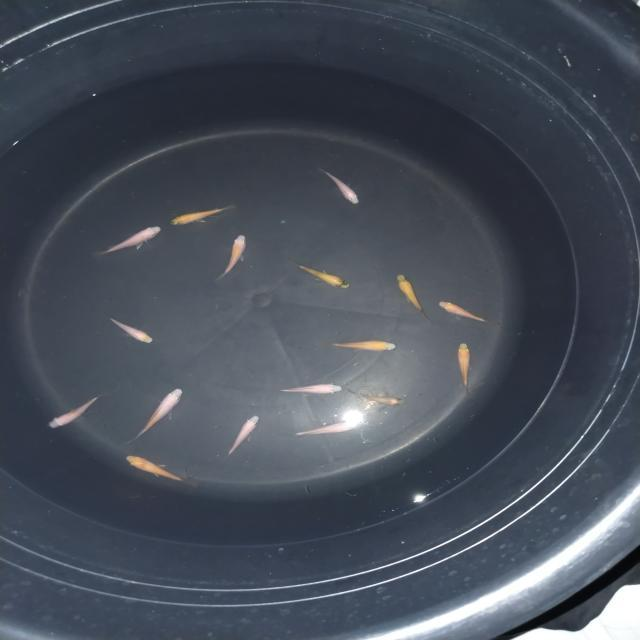nila: (126, 386, 184, 444), (42, 388, 110, 431), (122, 452, 198, 488), (89, 225, 163, 258), (288, 258, 356, 290), (210, 233, 250, 286), (220, 413, 262, 463), (438, 298, 506, 327), (102, 311, 156, 344), (284, 416, 364, 438), (392, 274, 429, 320), (318, 166, 362, 204), (168, 203, 234, 227), (322, 336, 399, 354), (456, 340, 478, 398), (273, 382, 346, 398), (354, 388, 408, 409)
